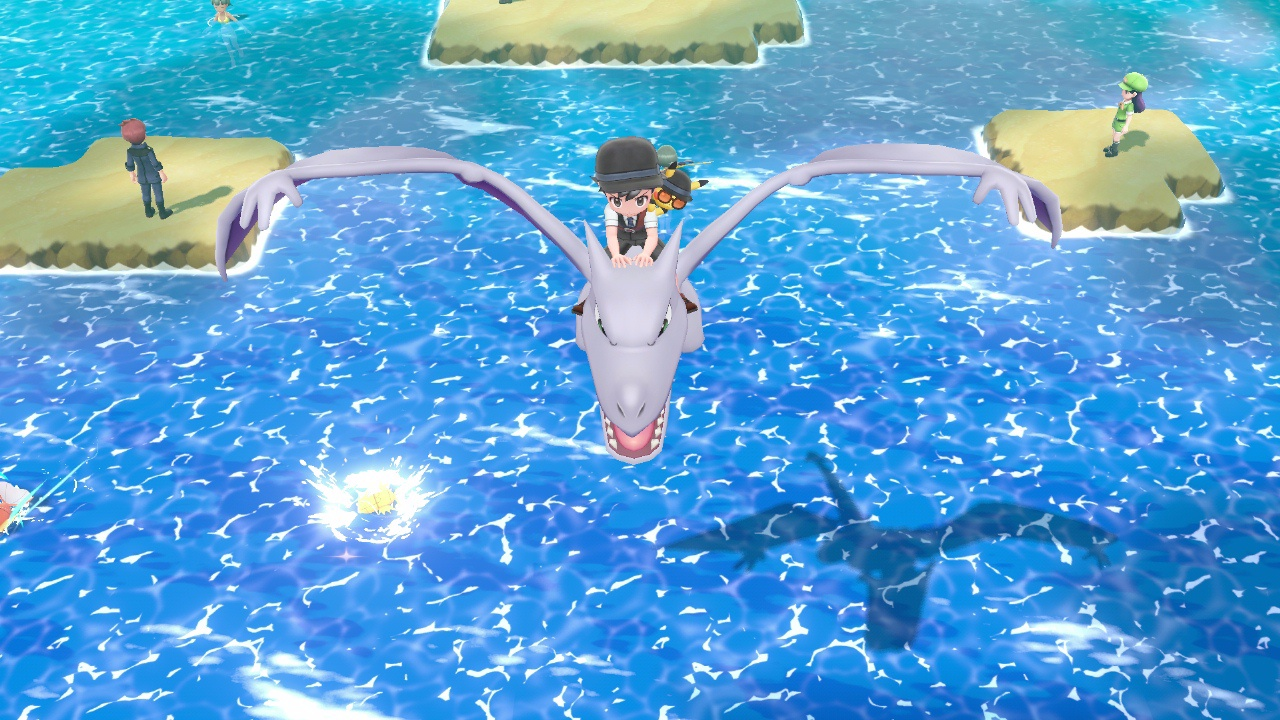Golden: (355, 482, 396, 517)
